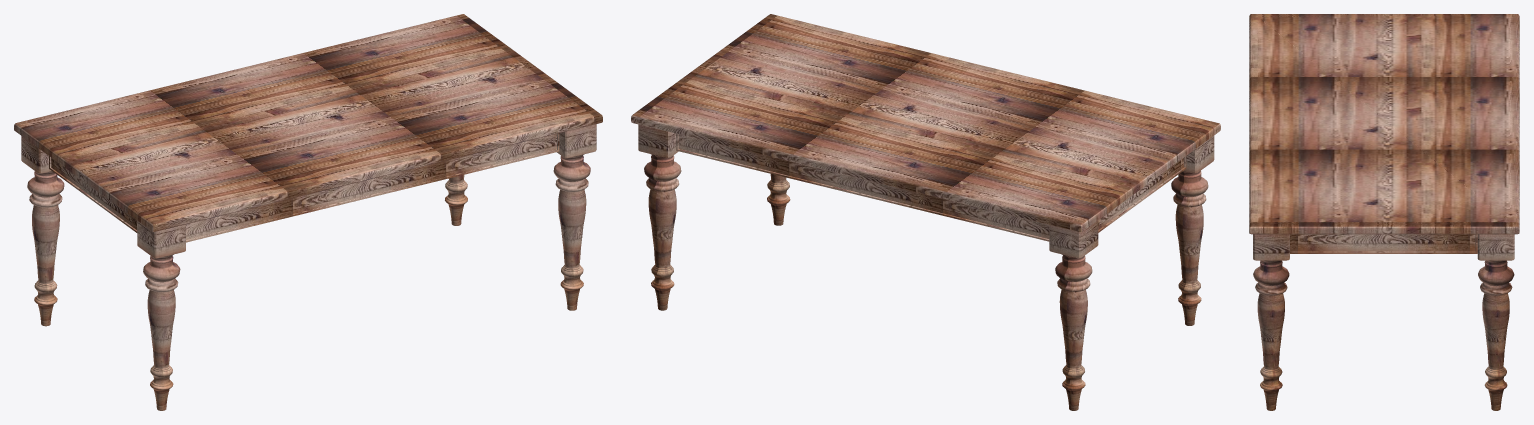
Rendered from DiningTable.FBX.
The picture shows the model from 3 angles, left to right: view 1: azimuth 30°, elevation 25°; view 2: azimuth 150°, elevation 25°; view 3: azimuth 270°, elevation 25°; orthographic projection. The views are drawn at different scales.
Parts seen in each view (by area): view 1: Table_01; view 2: Table_01; view 3: Table_01.
Boxes of the visible parts, bbox=[...] form: Table_01: bbox=[14, 14, 602, 410]; Table_01: bbox=[631, 14, 1220, 410]; Table_01: bbox=[1249, 14, 1519, 410].
Bounding box in the file's own units: 2.14 × 0.8977 × 1.14.
1 material, 1 textured.
